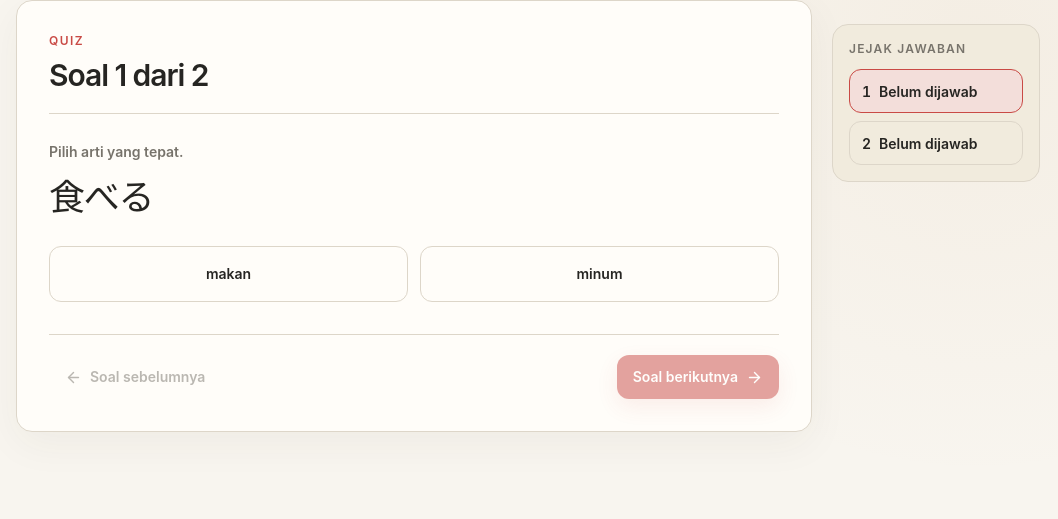
Test: QuizSession › locks a submitted answer, announces feedback, and guards next navigation
The image size is (1058, 519).
Expected: the button "Soal berikutnya" is disabled, left=617, top=355, right=779, bottom=399
Click the button "makan". click: (228, 274)
box: left=49, top=246, right=408, bottom=302
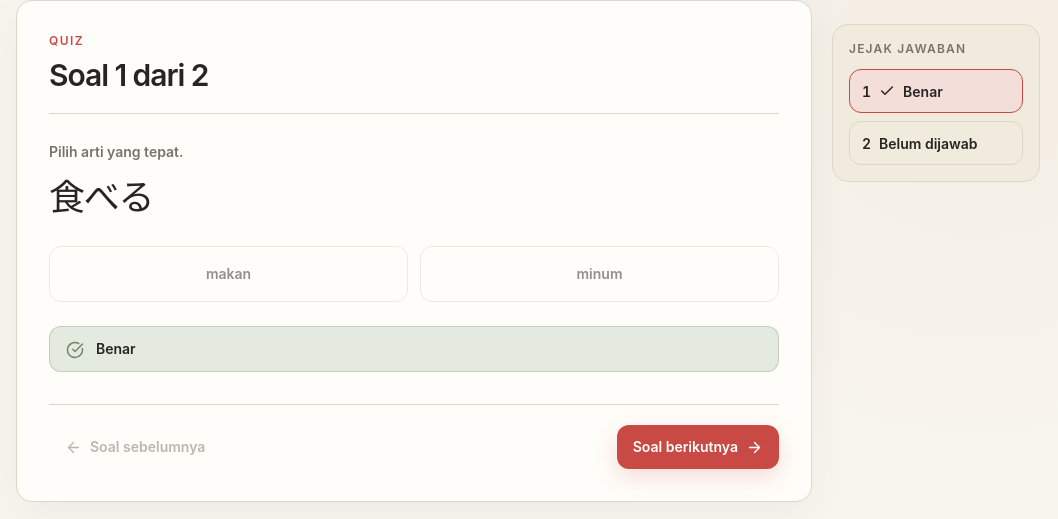
Expected: the message reads "Benar", left=96, top=340, right=136, bottom=357
Expected: the button "makan" is disabled, left=49, top=246, right=408, bottom=302
Expected: the button "minum" is disabled, left=420, top=246, right=779, bottom=302
